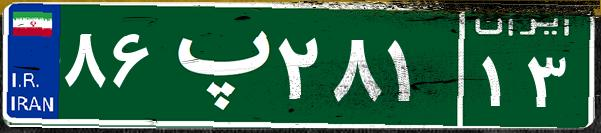1: (385, 28, 445, 110), (475, 38, 525, 113)
2: (273, 28, 330, 110)
3: (525, 38, 570, 115)
6: (110, 28, 158, 105)
8: (330, 28, 385, 110), (57, 26, 110, 107)
پ: (158, 15, 273, 115)
